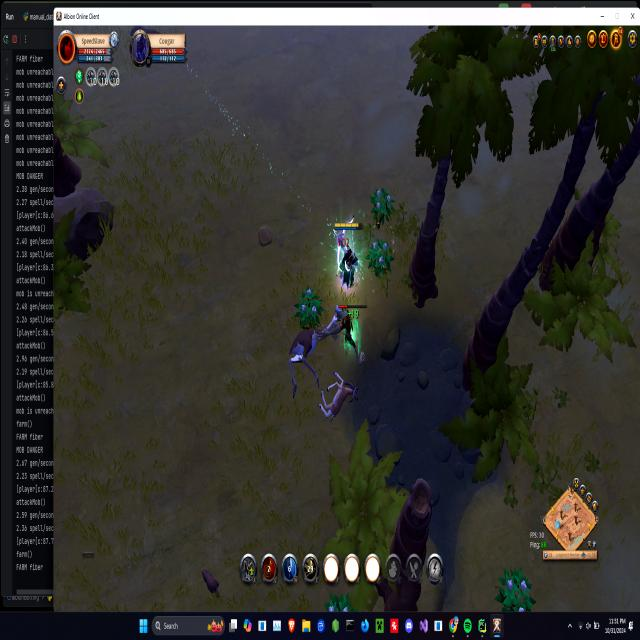hide: (498, 563, 533, 614), (295, 284, 323, 332), (368, 236, 392, 281), (370, 184, 392, 228)
mob: (284, 316, 330, 398), (316, 371, 361, 422)
ore: (332, 297, 365, 357)
red: (332, 217, 362, 286)
